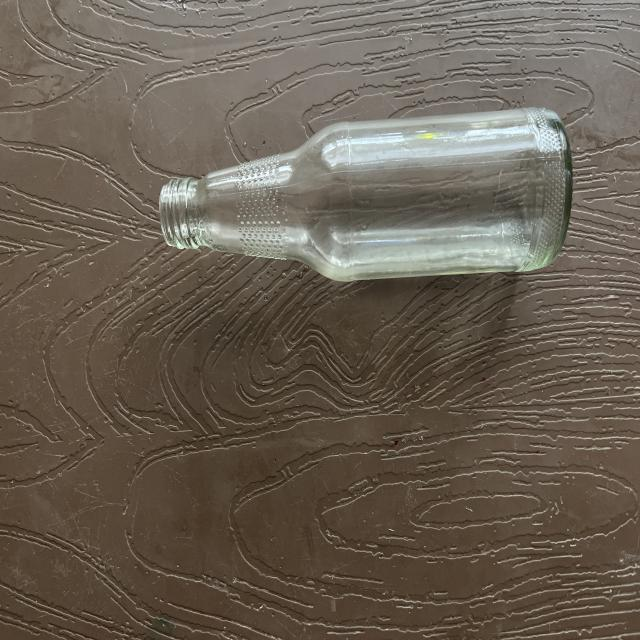Glass_Bottle: (160, 108, 572, 280)
